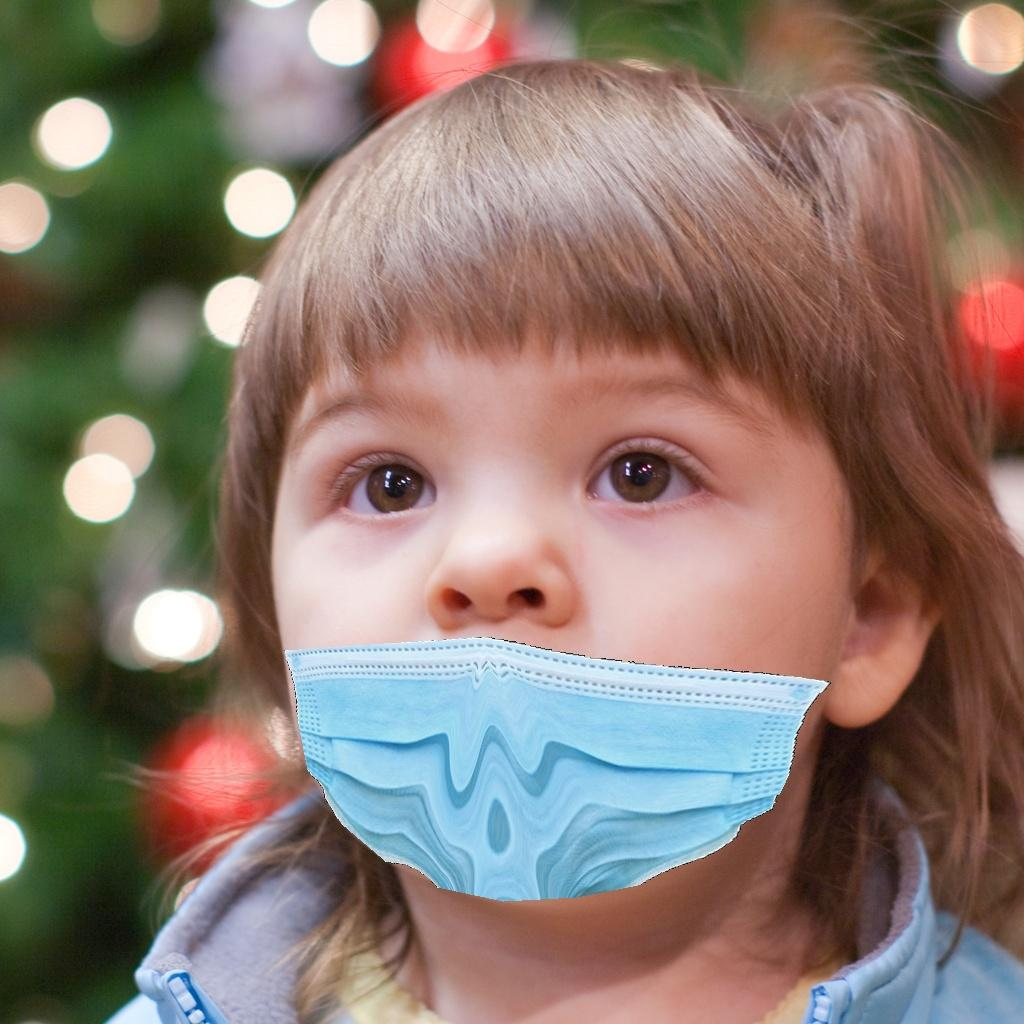Máscara Incorreta: (265, 307, 866, 891)
